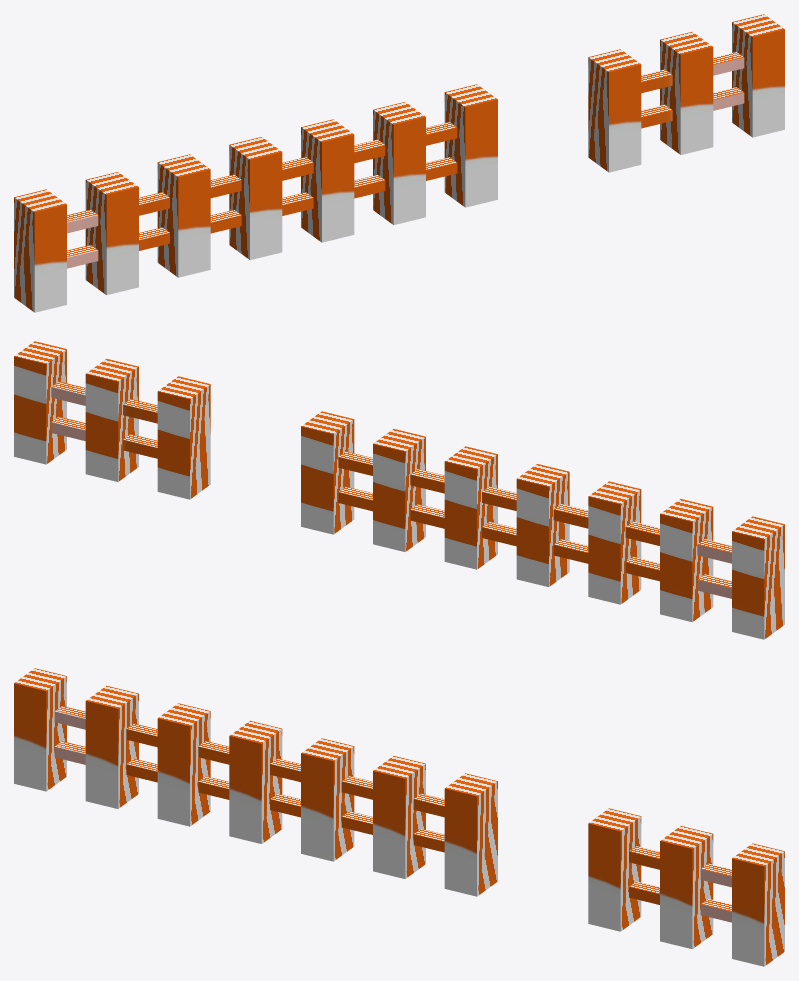
File: Fence2.fbx
3 views of the same model, one above another, from view 1: azimuth 30°, elevation 25°; view 2: azimuth 150°, elevation 25°; view 3: azimuth 330°, elevation 25° (orthographic).
Visible parts, largest first — view 1: fence_short_mesh; view 2: fence_short_mesh; view 3: fence_short_mesh.
Boxes of the visible parts, x1=… form: fence_short_mesh: x1=14, y1=14, x2=784, y2=312; fence_short_mesh: x1=14, y1=341, x2=784, y2=639; fence_short_mesh: x1=14, y1=668, x2=784, y2=966.
Bounding box in the file's own units: 836 × 107 × 39.99.
